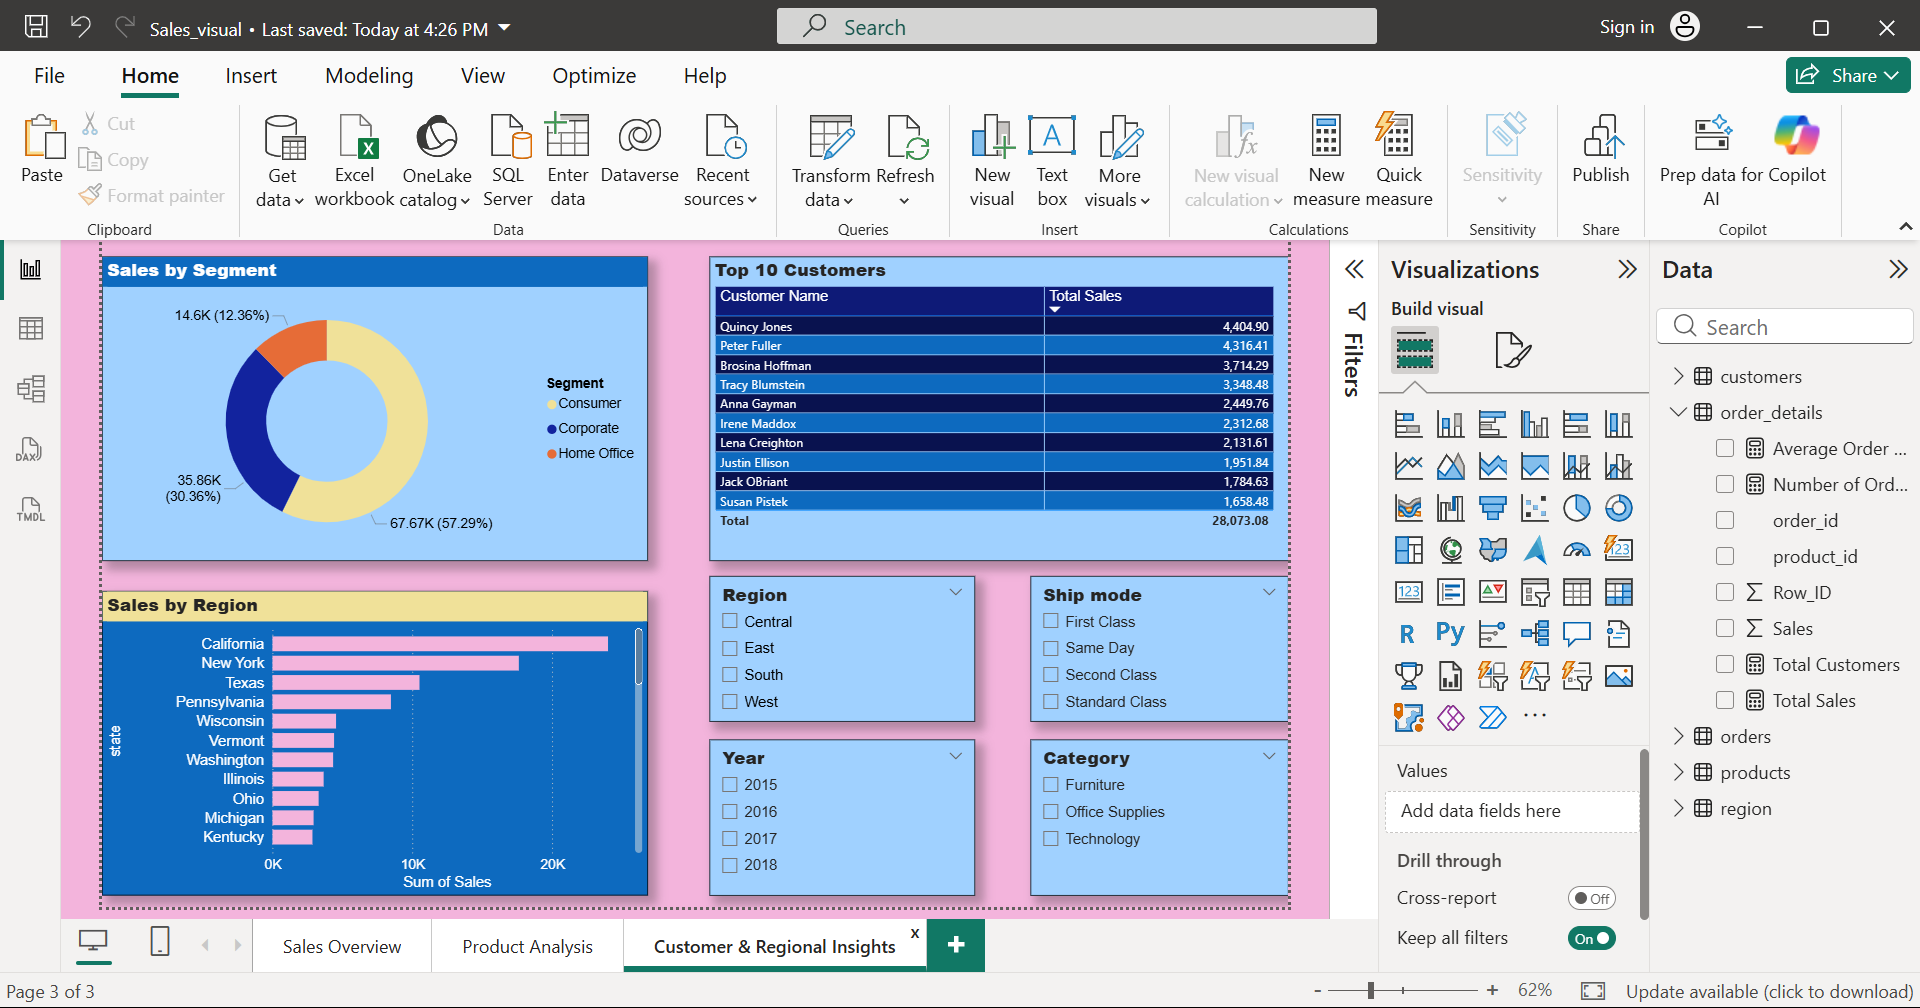

The dashboard page shown, as its layout file describes it:
{"tool":"powerbi","page":{"name":"Customer & Regional Insights","canvas":[1280,720],"ordinal":2},"visuals":[{"type":"donutChart","title":"Sales by Segment","fields":{"Category":["customers.segment"],"Y":["Sum(order_details.Sales)"]},"box":[0,17.8,589.4,328.7],"z":0},{"type":"clusteredBarChart","title":"Sales by Region","fields":{"Y":["Sum(order_details.Sales)"],"Category":["region.state"]},"box":[0,378.9,589.4,328.7],"z":1},{"type":"tableEx","title":"Top 10 Customers","fields":{"Values":["customers.customer_name","Sum(order_details.Sales)"]},"box":[655.8,17.8,625,328.7],"z":2},{"type":"slicer","title":"Region","fields":{"Values":["region.region"]},"box":[655.8,362.7,286.6,157.1],"z":3},{"type":"slicer","fields":{"Values":["orders.ship_mode"]},"box":[1002.3,362.7,278.5,157.1],"z":4},{"type":"slicer","fields":{"Values":["orders.order_date.Variation.Date Hierarchy.Year"]},"box":[655.8,539.2,286.6,168.4],"z":5},{"type":"slicer","fields":{"Values":["products.category"]},"box":[1002.3,539.2,278.5,168.4],"z":6}]}

Visuals, with their boxes on the page's 1280x720 design canvas (x1, y1, x2, y2). These are canvas units, not pixel positions in the 1920x1008 screenshot, which may show the page scaled, cropped or inside an application window:
"Sales by Segment" donutChart: [0, 18, 589, 346]
"Sales by Region" clusteredBarChart: [0, 379, 589, 708]
"Top 10 Customers" tableEx: [656, 18, 1281, 346]
"Region" slicer: [656, 363, 942, 520]
slicer - orders.ship_mode: [1002, 363, 1281, 520]
slicer - orders.order_date.Variation.Date Hierarchy.Year: [656, 539, 942, 708]
slicer - products.category: [1002, 539, 1281, 708]
